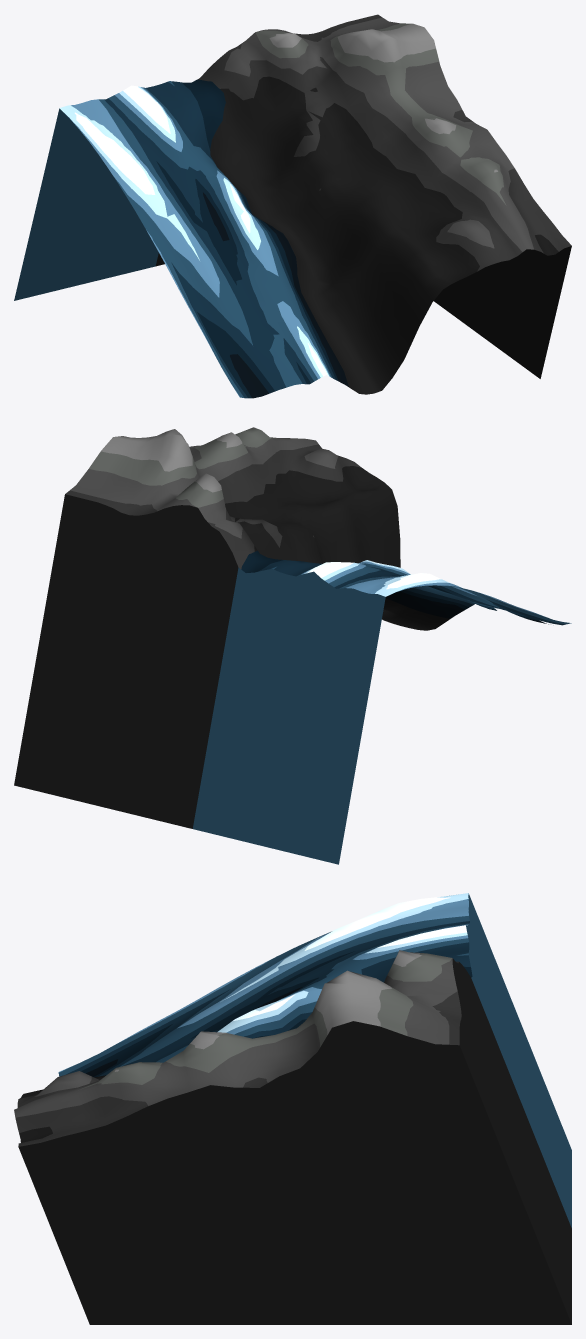
File: torm_fall_tr_238.glb
The picture shows the model from 3 angles, top to bottom: view 1: azimuth 30°, elevation 25°; view 2: azimuth 150°, elevation 25°; view 3: azimuth 270°, elevation 25°; orthographic projection. The views are drawn at different scales.
Visible parts, largest first — view 1: torm_fall_tr_238; view 2: torm_fall_tr_238; view 3: torm_fall_tr_238.
Boxes of the visible parts, x1,y1,x2,y2 form: torm_fall_tr_238: (14,14,571,398); torm_fall_tr_238: (14,427,571,864); torm_fall_tr_238: (14,893,571,1324).
Bounding box in the file's own units: 24 × 20.47 × 32.41.
